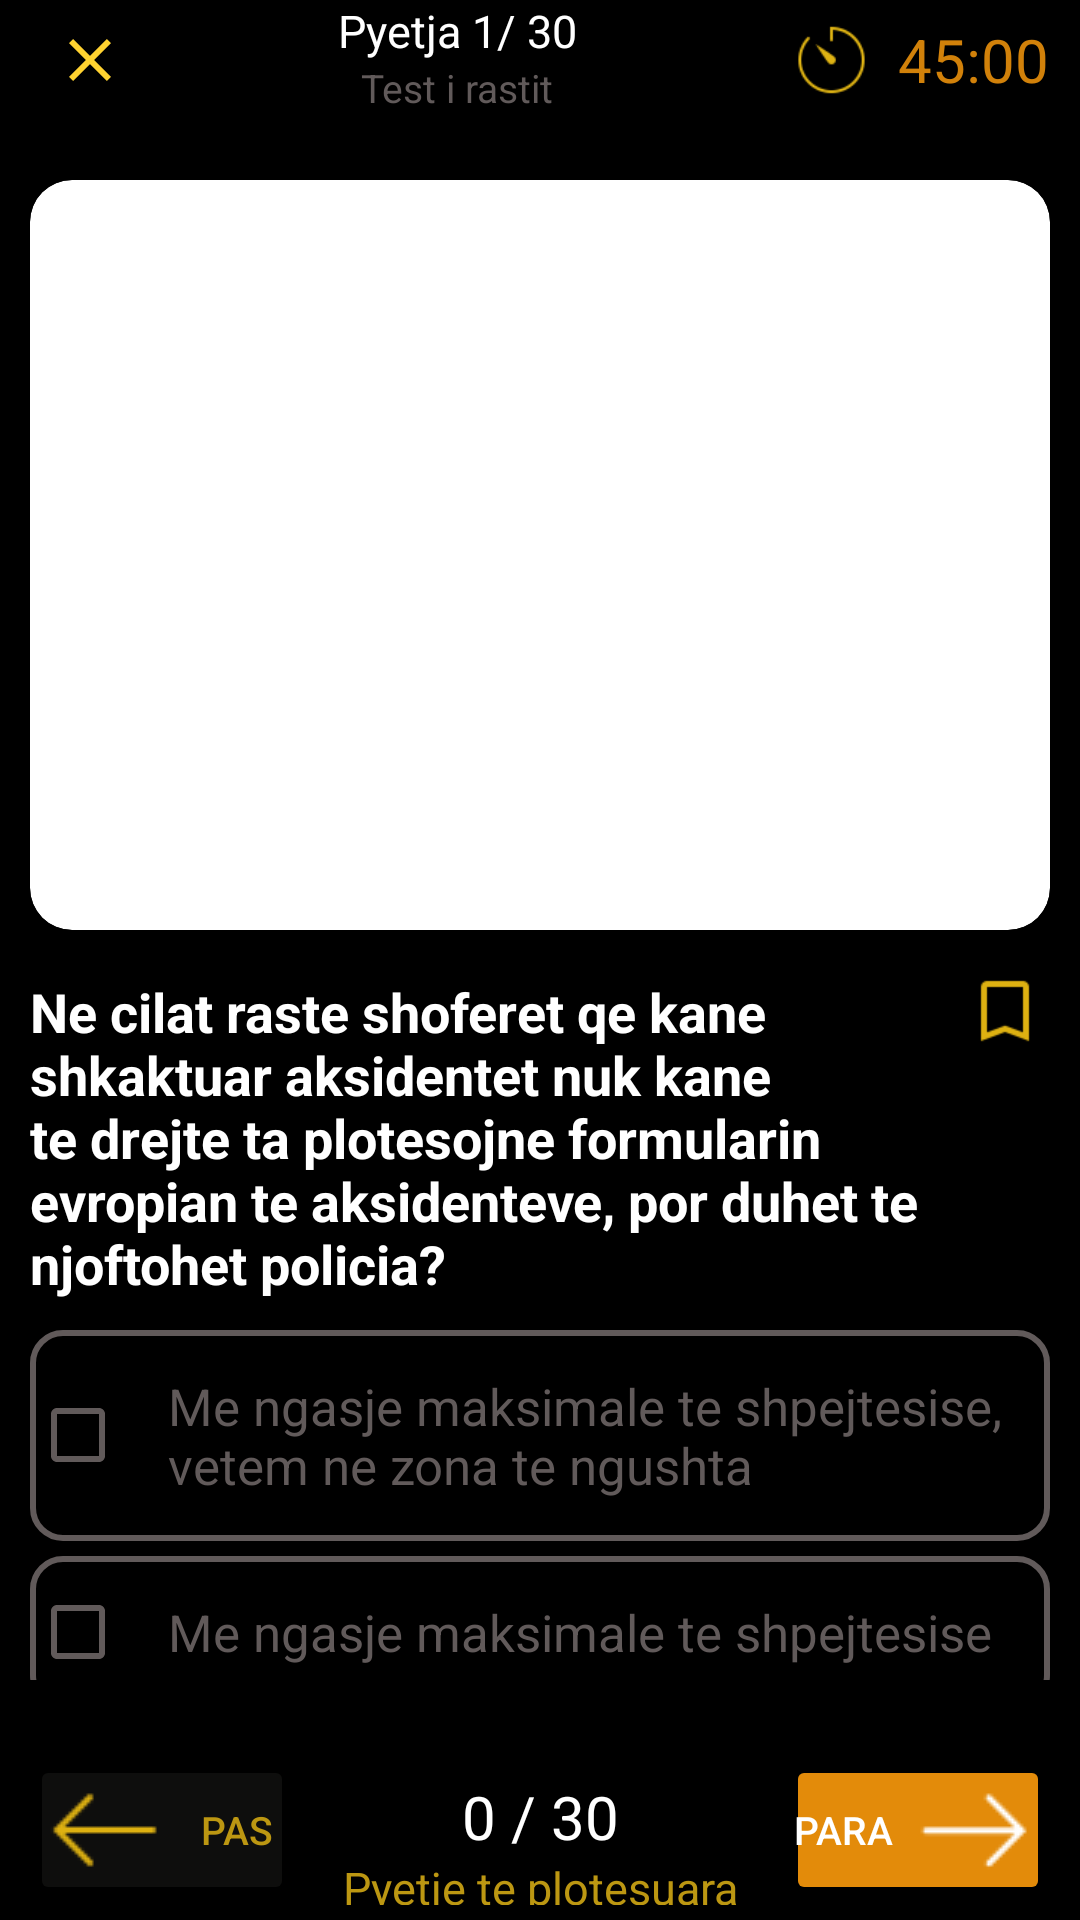

Point at icon controls on the screen. Image size 1080px×1920px, points as (x,y).
clock: (831,60)
close: (90,60)
save unfilled: (1005,1011)
